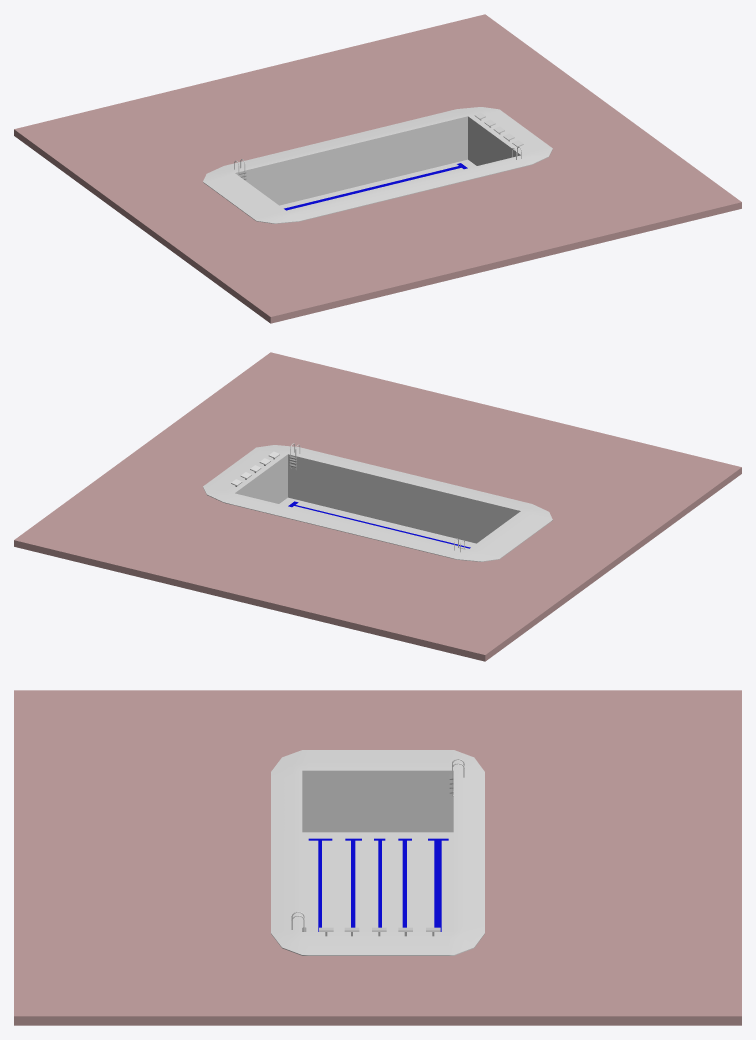
The model's file is swimming_Pool.fbx.
3 views of the same model, one above another, from view 1: azimuth 30°, elevation 25°; view 2: azimuth 150°, elevation 25°; view 3: azimuth 270°, elevation 25° (orthographic). The views are drawn at different scales.
Visible parts, largest first — view 1: pCube24, pCube1; view 2: pCube24, pCube1; view 3: pCube24, pCube1.
Boxes of the visible parts, x1,y1,x2,y2 form: pCube24: (14,14,741,323); pCube1: (203,107,552,223); pCube24: (14,352,741,661); pCube1: (203,445,552,561); pCube24: (14,690,741,1025); pCube1: (271,750,484,955).
Size of the model in its own units: 47.34 by 5.34 by 44.67.
